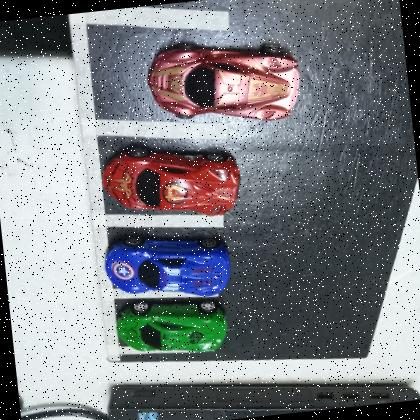Car: (150, 48, 299, 119), (101, 145, 240, 216), (104, 233, 230, 299), (115, 296, 228, 351)
